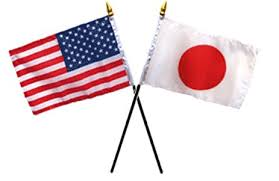Japanese Flag: (143, 17, 263, 115)
